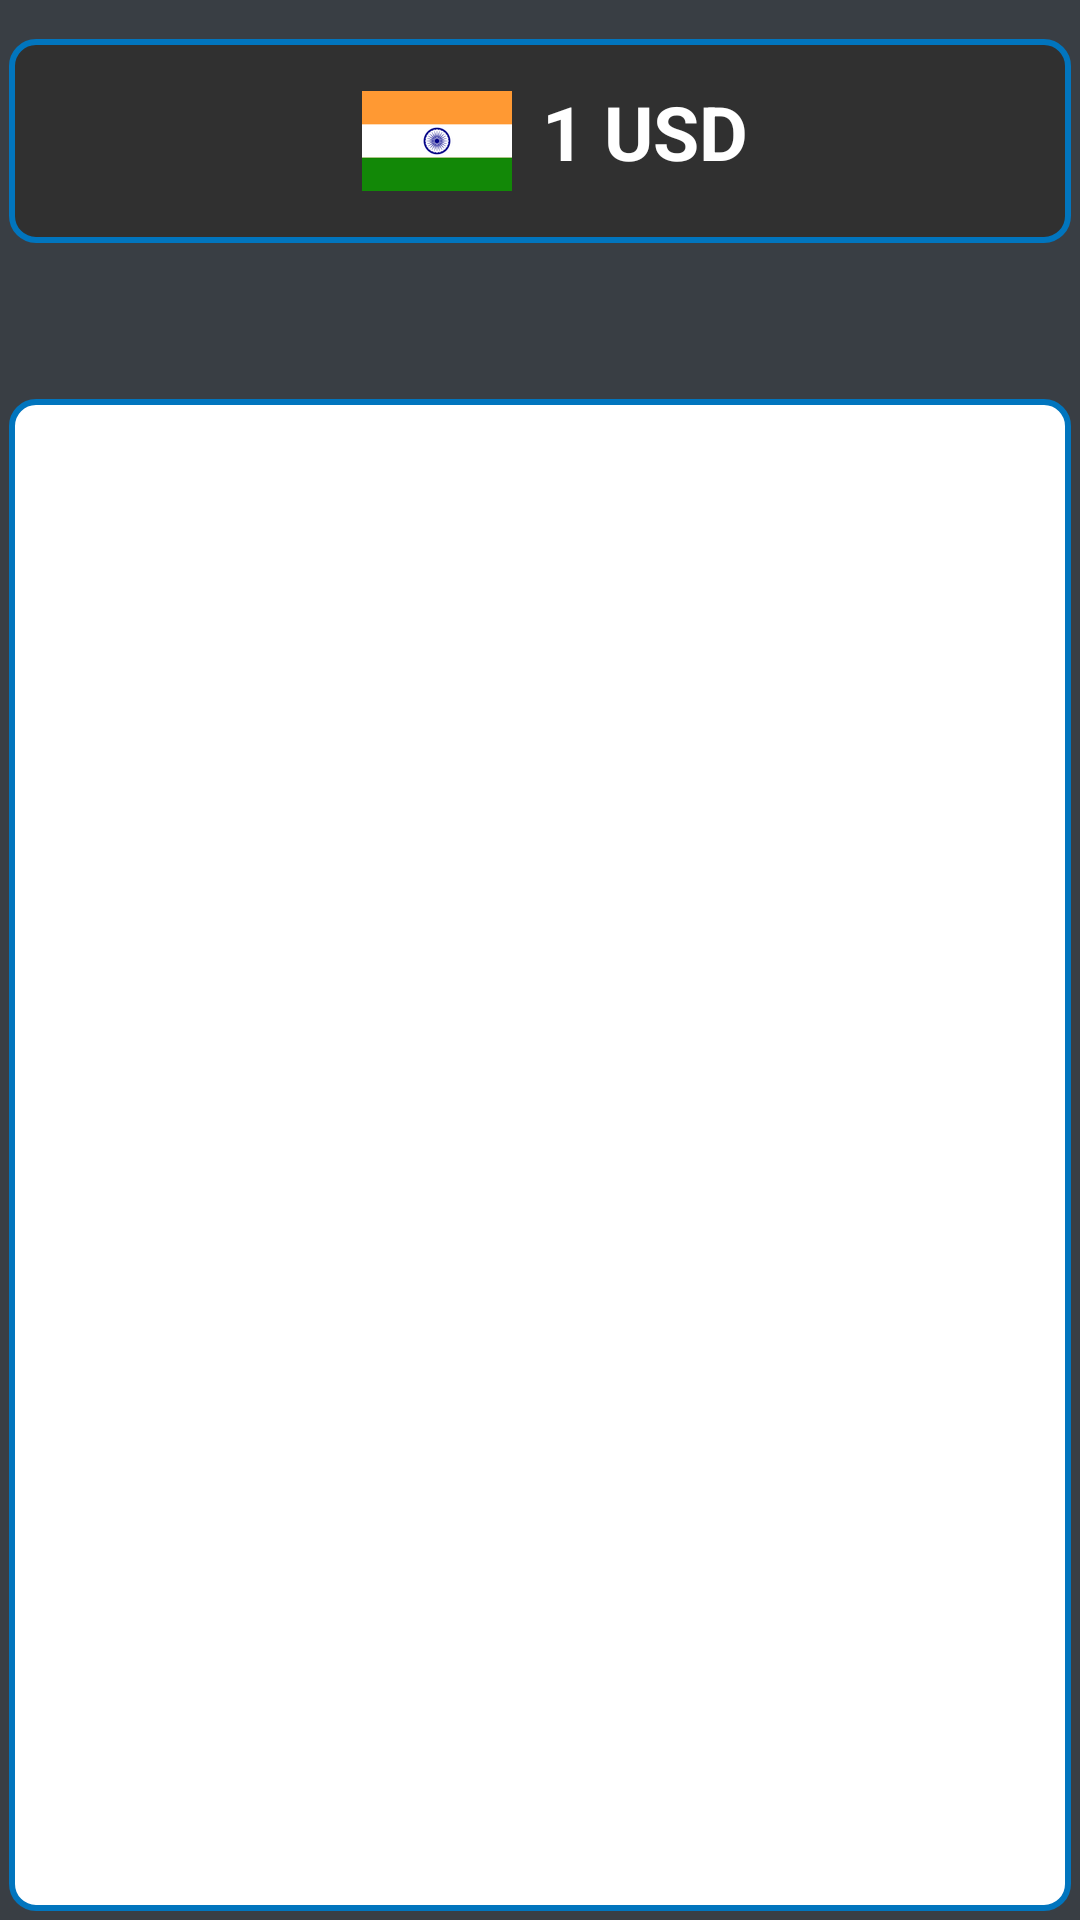

Screen size 1080*1920. Icon name, then its center in pixels as (x=x, y=y):
inr: (x=437, y=141)
